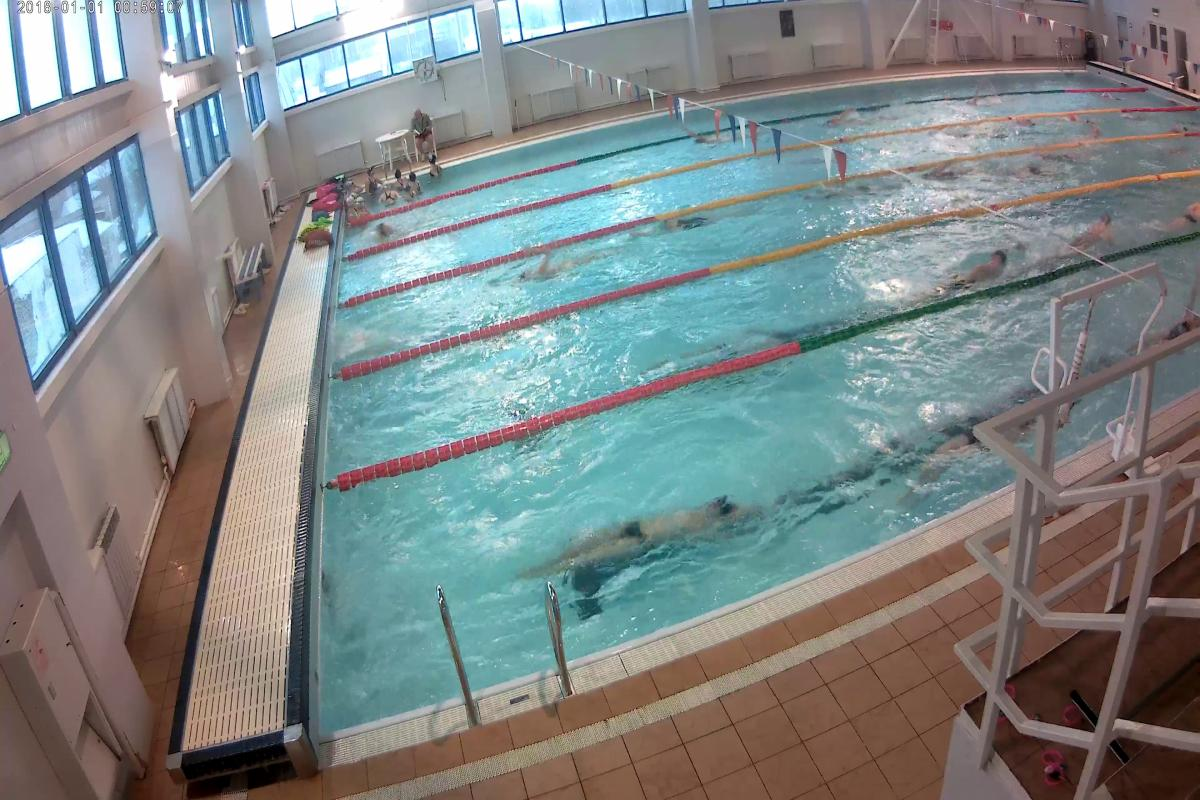swimmer: (566, 501, 746, 571), (917, 256, 999, 292), (1047, 212, 1107, 257)
